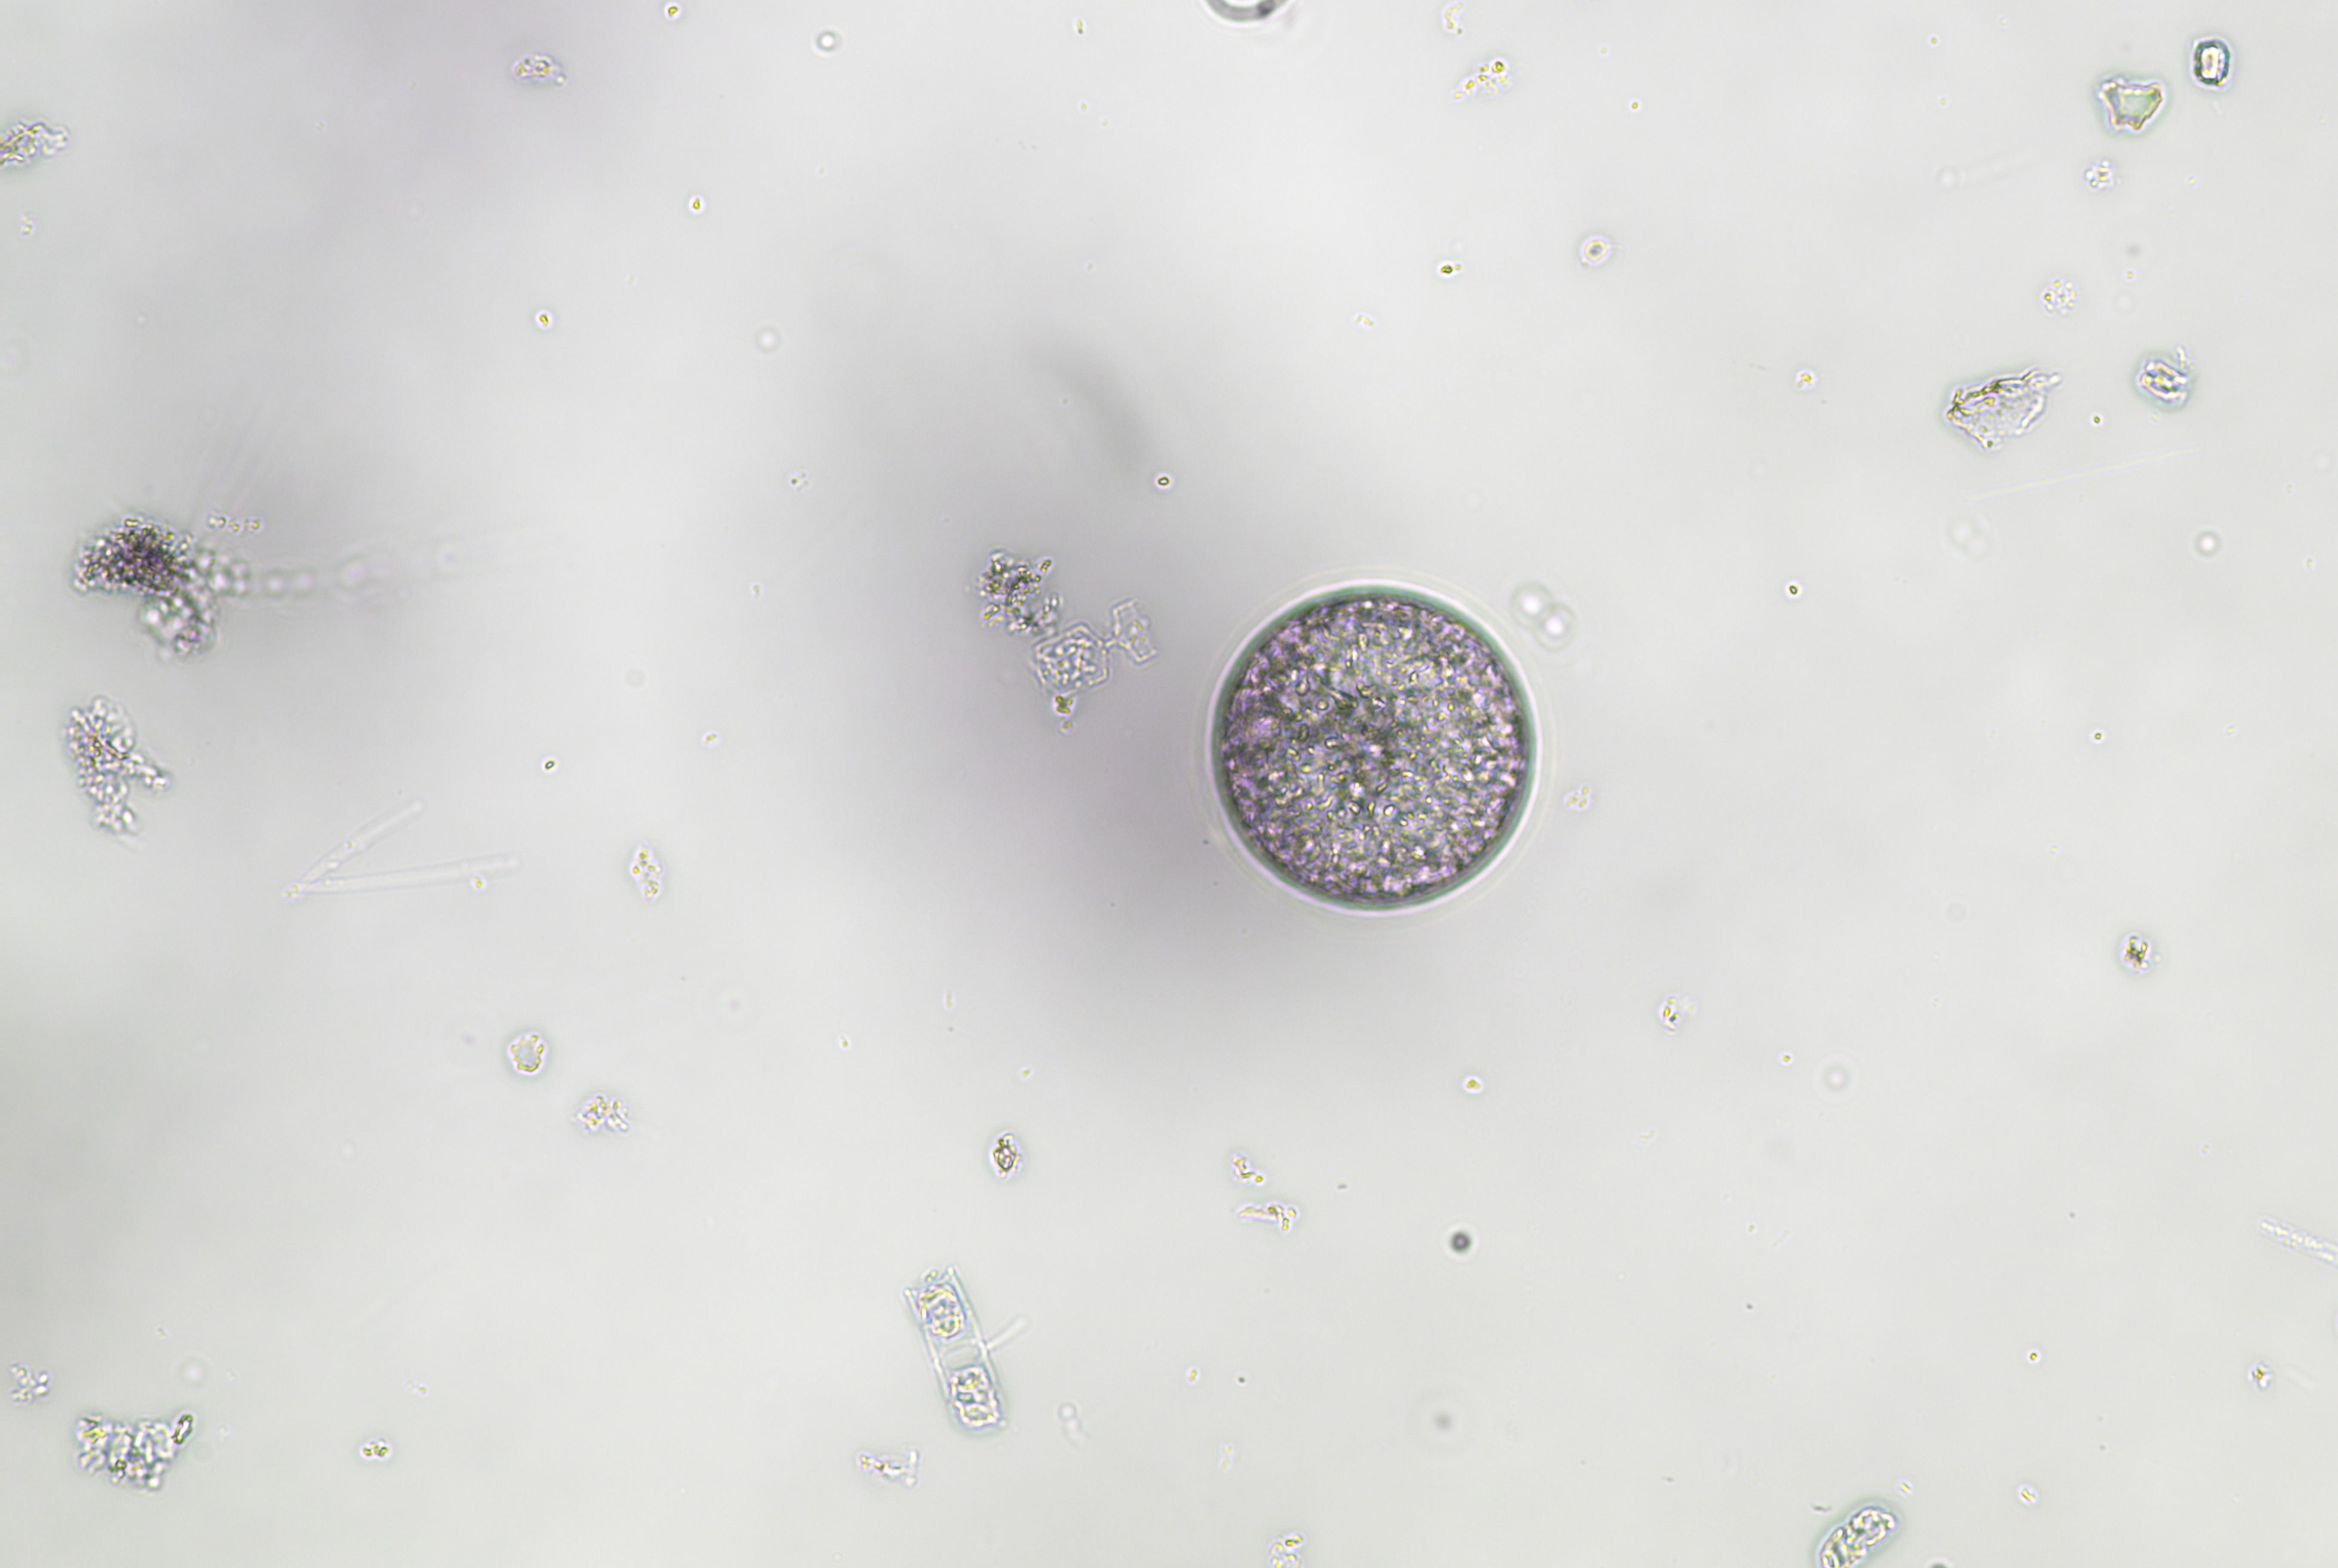coscinodiscus: (1195, 569, 1549, 917)
